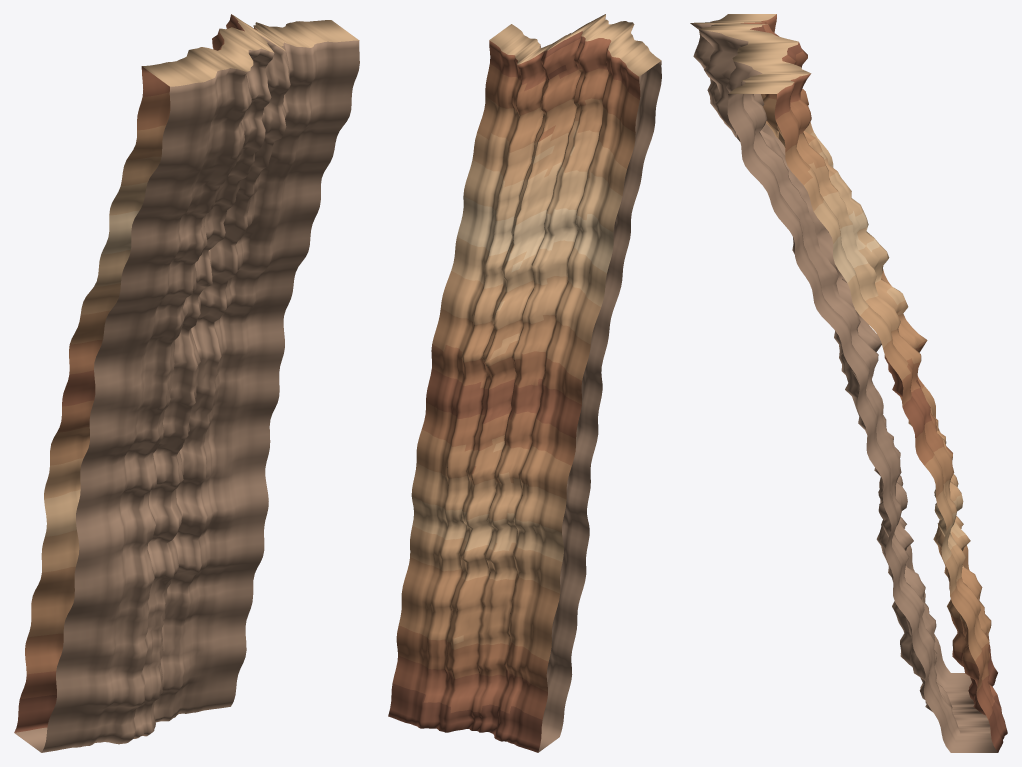
Rendered from SM_CanyonWall_R_Straight_A.glb.
3 renders of one model, left to right at view 1: azimuth 30°, elevation 25°; view 2: azimuth 150°, elevation 25°; view 3: azimuth 270°, elevation 25°, orthographic. The views are drawn at different scales.
Parts seen in each view (by area): view 1: SM_CanyonWall_R_Straight_A; view 2: SM_CanyonWall_R_Straight_A; view 3: SM_CanyonWall_R_Straight_A.
Part boxes in pixels (x1,y1,x2,y2): SM_CanyonWall_R_Straight_A: (14, 14, 359, 752); SM_CanyonWall_R_Straight_A: (388, 14, 661, 752); SM_CanyonWall_R_Straight_A: (690, 14, 1007, 752).
Bounding box in the file's own units: 24 × 95.06 × 40.23.
